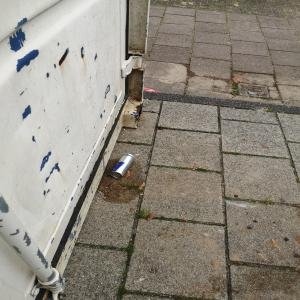Can: (109, 153, 139, 181)
